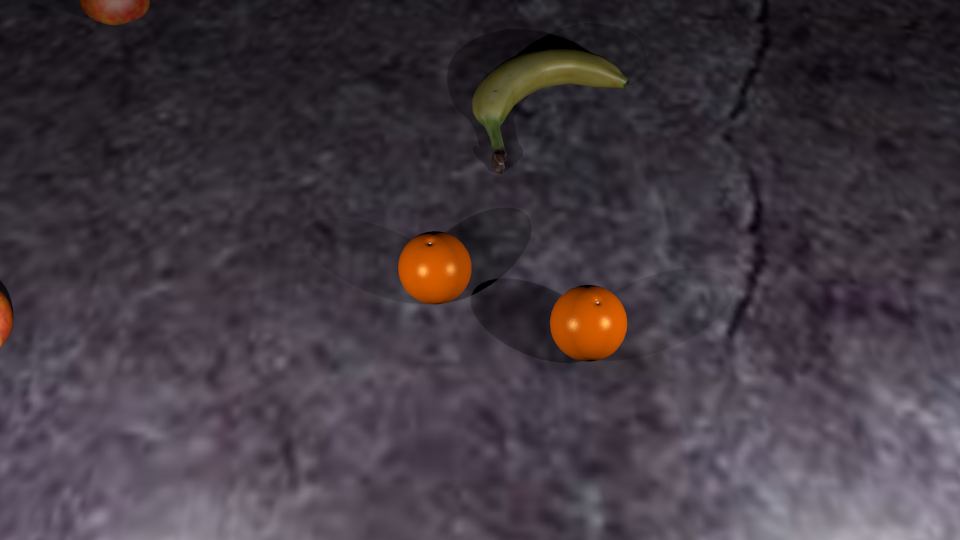apple: (81, 1, 150, 25), (1, 293, 13, 348)
banana: (473, 56, 629, 174)
orange: (551, 288, 628, 360), (399, 236, 472, 304)
